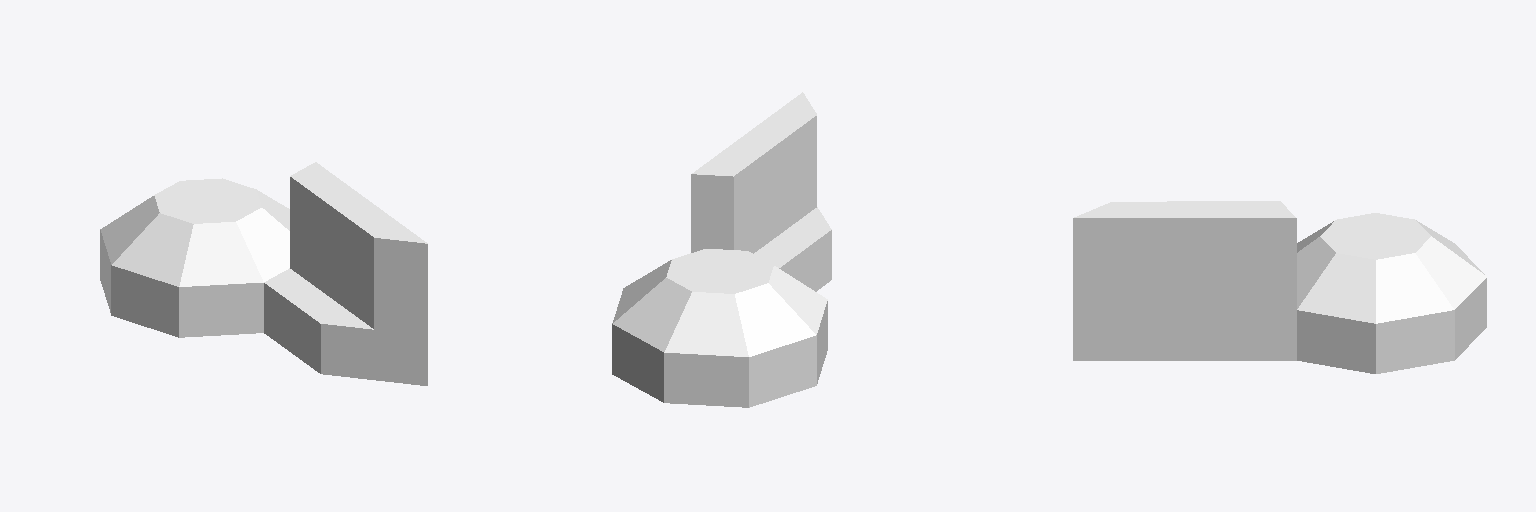
Rendered from Weapon-Fuse-0.obj.
3 views of the same model, side by side, from view 1: azimuth 30°, elevation 25°; view 2: azimuth 150°, elevation 25°; view 3: azimuth 270°, elevation 25° (orthographic).
Parts seen in each view (by area): view 1: Weapon-Fuse-0; view 2: Weapon-Fuse-0; view 3: Weapon-Fuse-0.
Boxes of the visible parts, <box> form: Weapon-Fuse-0: <box>100,162,427,385</box>; Weapon-Fuse-0: <box>612,92,831,407</box>; Weapon-Fuse-0: <box>1073,201,1486,373</box>.
Size of the model in its own units: 0.02 by 0.0141 by 0.0372.